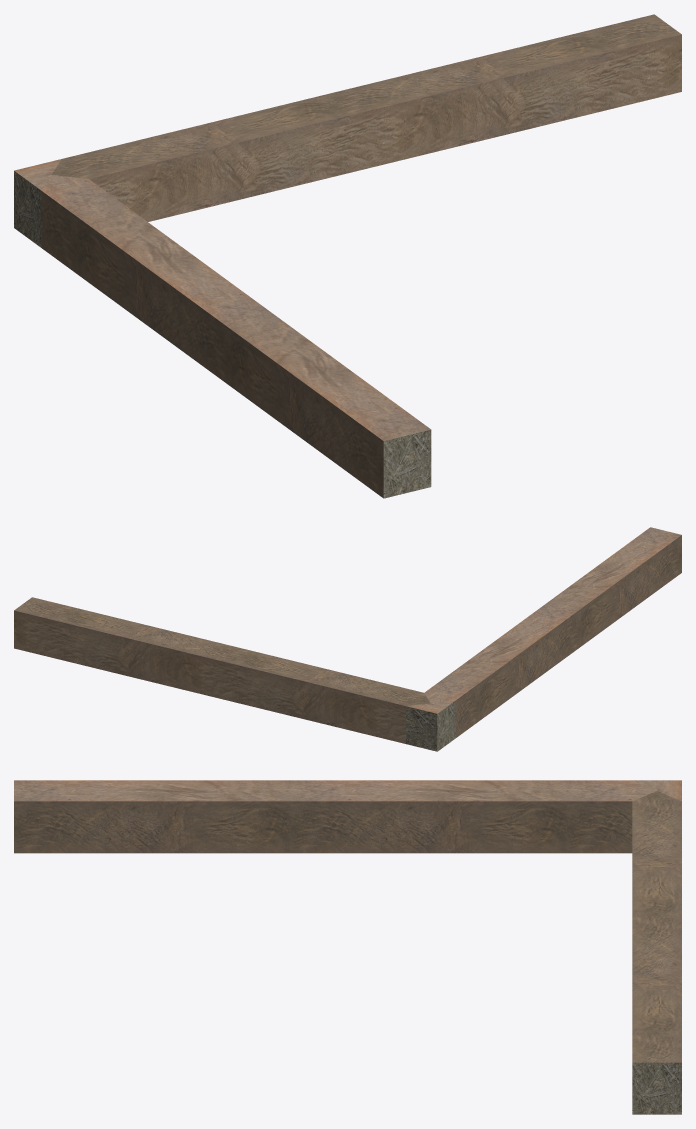
Rendered from WoodCenterScaffoldH.fbx.
The picture shows the model from 3 angles, top to bottom: view 1: azimuth 30°, elevation 25°; view 2: azimuth 150°, elevation 25°; view 3: azimuth 270°, elevation 25°; orthographic projection. The views are drawn at different scales.
Parts seen in each view (by area): view 1: WoodCenterScaffoldH; view 2: WoodCenterScaffoldH; view 3: WoodCenterScaffoldH.
Boxes of the visible parts, left/top/right/bottom form: WoodCenterScaffoldH: left=14, top=14, right=681, bottom=498; WoodCenterScaffoldH: left=14, top=527, right=681, bottom=751; WoodCenterScaffoldH: left=14, top=780, right=681, bottom=1114.
Bounding box in the file's own units: 404 × 34.6 × 404.
